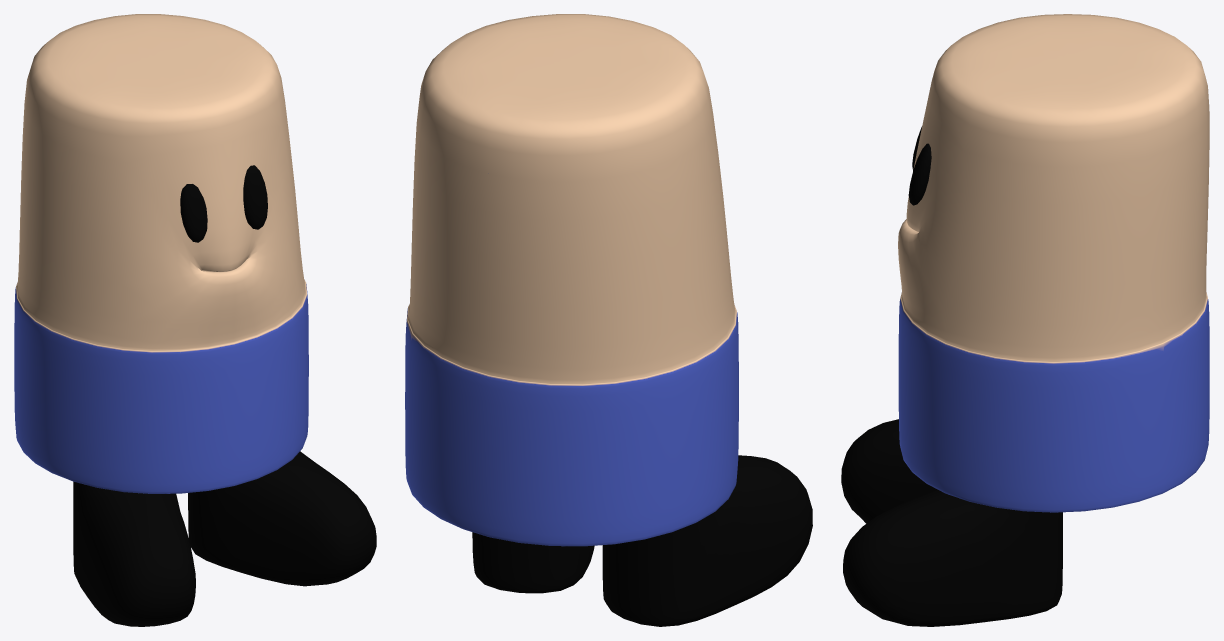
The model's file is NPC-4.fbx.
The picture shows the model from 3 angles, left to right: view 1: azimuth 30°, elevation 25°; view 2: azimuth 150°, elevation 25°; view 3: azimuth 270°, elevation 25°; orthographic projection. The views are drawn at different scales.
Visible parts, largest first — view 1: pCylinder5, pCube31, pCube29, pCube30, pCube28; view 2: pCylinder5, pCube29, pCube31; view 3: pCylinder5, pCube31, pCube29, pCube30.
Part boxes in pixels (<box>): pCylinder5: <box>14,14,308,493</box>; pCube31: <box>188,451,376,586</box>; pCube29: <box>73,481,195,626</box>; pCube30: <box>243,165,267,229</box>; pCube28: <box>180,184,207,242</box>; pCylinder5: <box>405,14,738,546</box>; pCube29: <box>602,455,812,626</box>; pCube31: <box>472,532,594,593</box>; pCylinder5: <box>898,14,1209,512</box>; pCube31: <box>843,490,1062,626</box>; pCube29: <box>841,419,937,523</box>; pCube30: <box>908,143,931,205</box>.
Bounding box in the file's own units: 219 × 391 × 257.
Materials: 2 (1 with a texture image).
